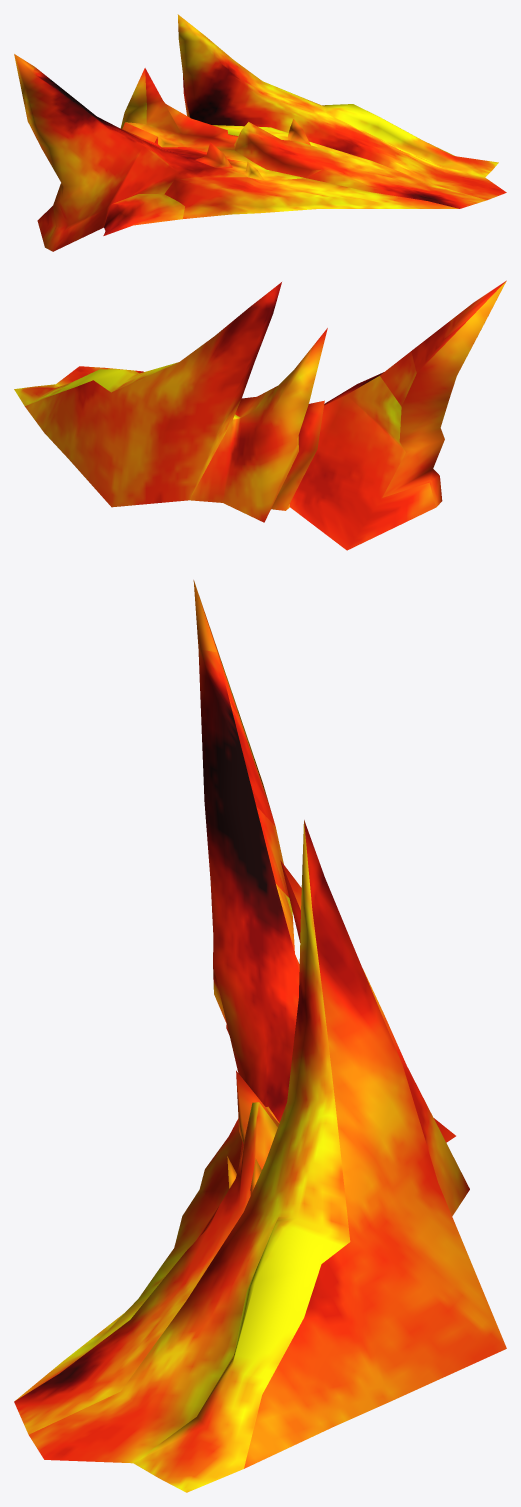
Rendered from hs_shan_13.FBX.
3 views of the same model, one above another, from view 1: azimuth 30°, elevation 25°; view 2: azimuth 150°, elevation 25°; view 3: azimuth 270°, elevation 25° (orthographic). The views are drawn at different scales.
Parts seen in each view (by area): view 1: hs_shan_13; view 2: hs_shan_13; view 3: hs_shan_13.
Part boxes in pixels (x1,y1,x2,y2): hs_shan_13: (14, 14, 506, 251); hs_shan_13: (14, 280, 506, 550); hs_shan_13: (14, 580, 506, 1492).
Size of the model in its own units: 242 by 114 by 108.
